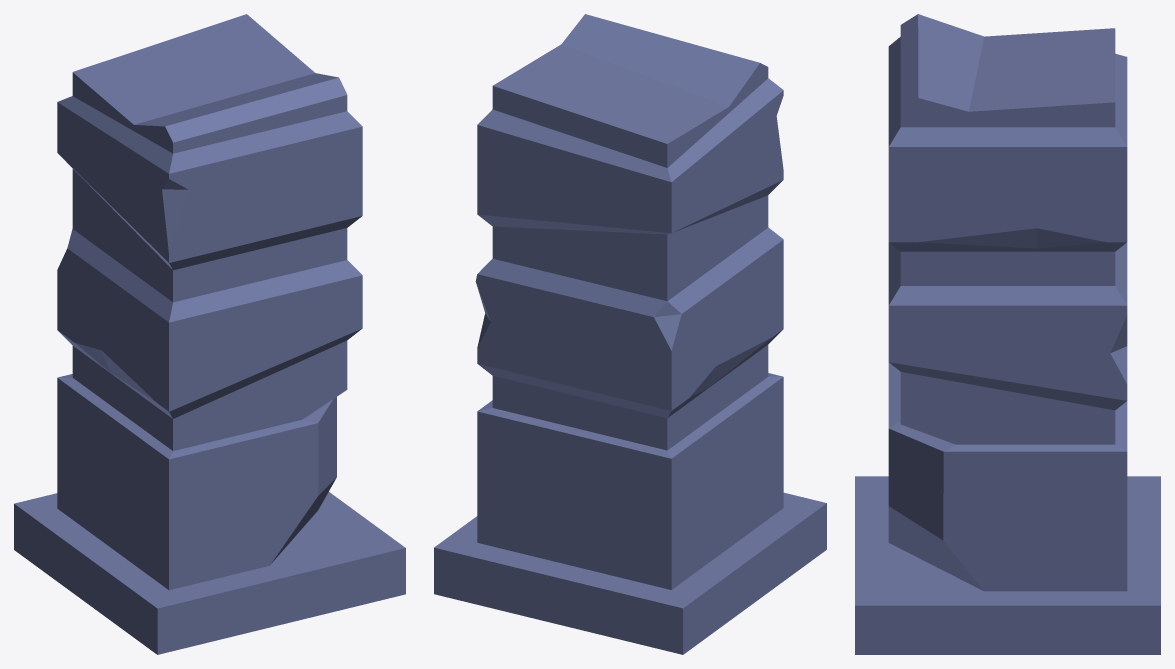
Rendered from arch_2_dstr_1.fbx.
3 renders of one model, left to right at view 1: azimuth 30°, elevation 25°; view 2: azimuth 150°, elevation 25°; view 3: azimuth 270°, elevation 25°, orthographic. The views are drawn at different scales.
Visible parts, largest first — view 1: arch_2_dstr_1; view 2: arch_2_dstr_1; view 3: arch_2_dstr_1.
Part boxes in pixels (<box>): arch_2_dstr_1: <box>14,14,405,654</box>; arch_2_dstr_1: <box>434,14,826,654</box>; arch_2_dstr_1: <box>855,14,1160,654</box>.
Size of the model in its own units: 2.18 by 4.24 by 2.18.
